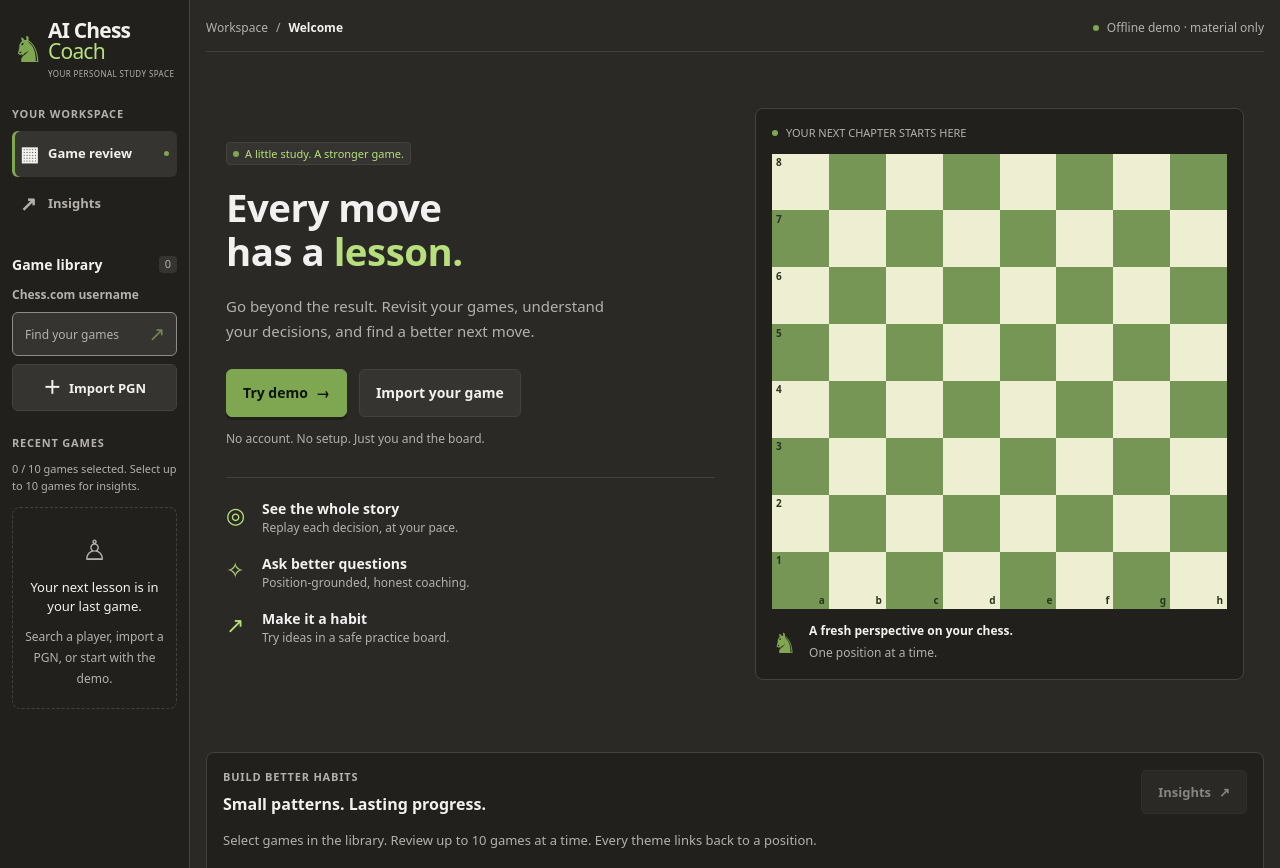
Test case: complete workspace › shows actionable import errors and preserves the current game
Click the button "Try demo →" at point(286, 393), box 226,369 -> 347,417
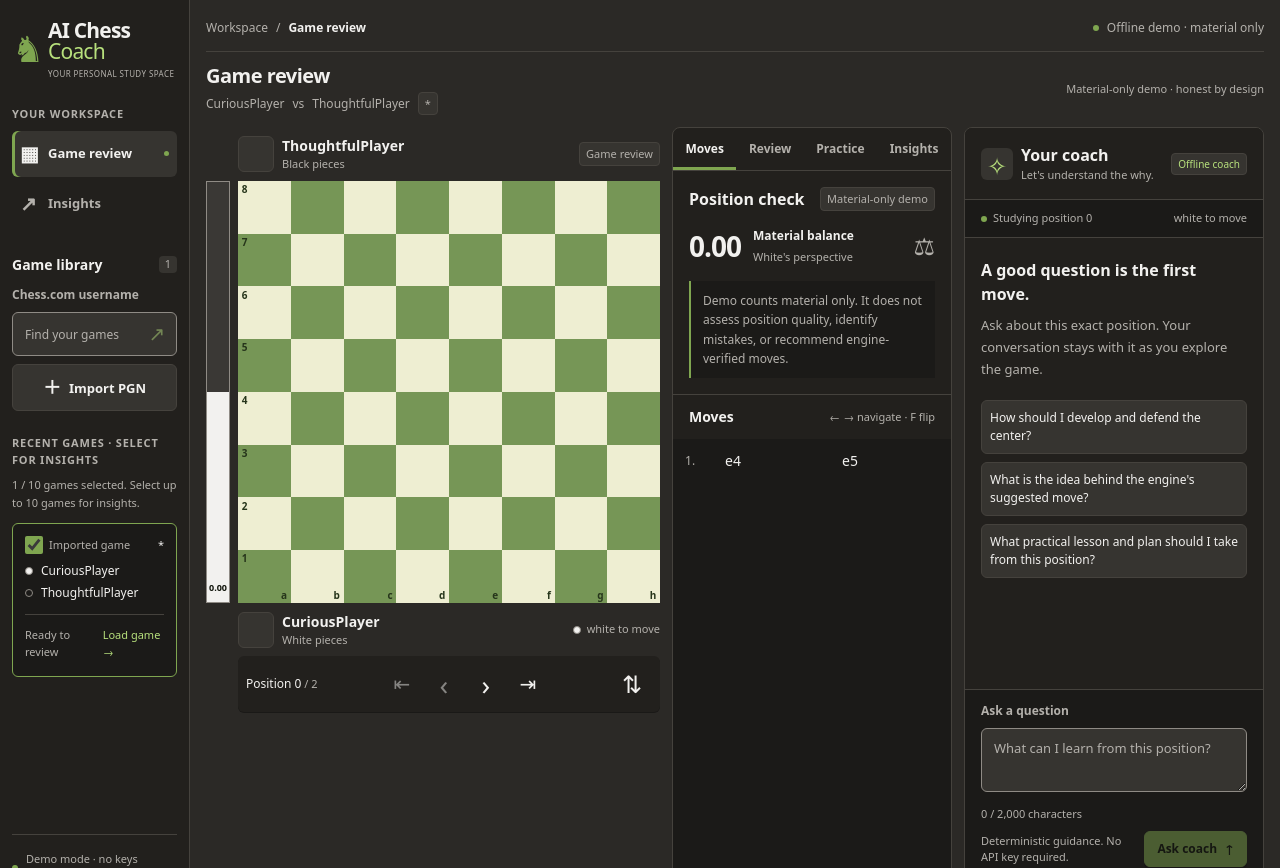
Result: the text "Position 0" is shown at 246,675 -> 302,692
Click the button "＋ Import PGN" at point(94, 388), box 12,364 -> 177,411
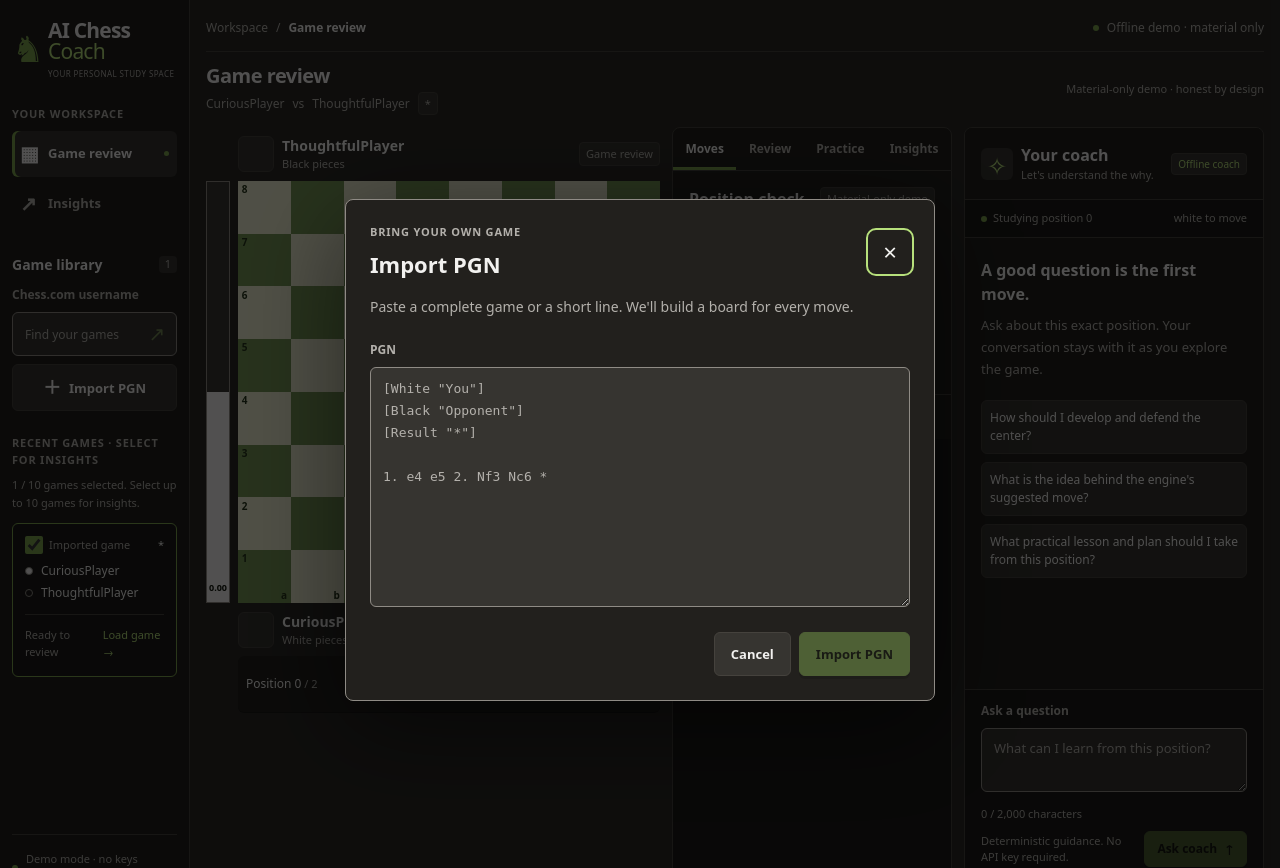
Result: the dialog "Import PGN" is shown at 345,199 -> 935,701
Type "not chess" into the text box labelled "PGN" at point(640, 487), box 370,367 -> 910,607
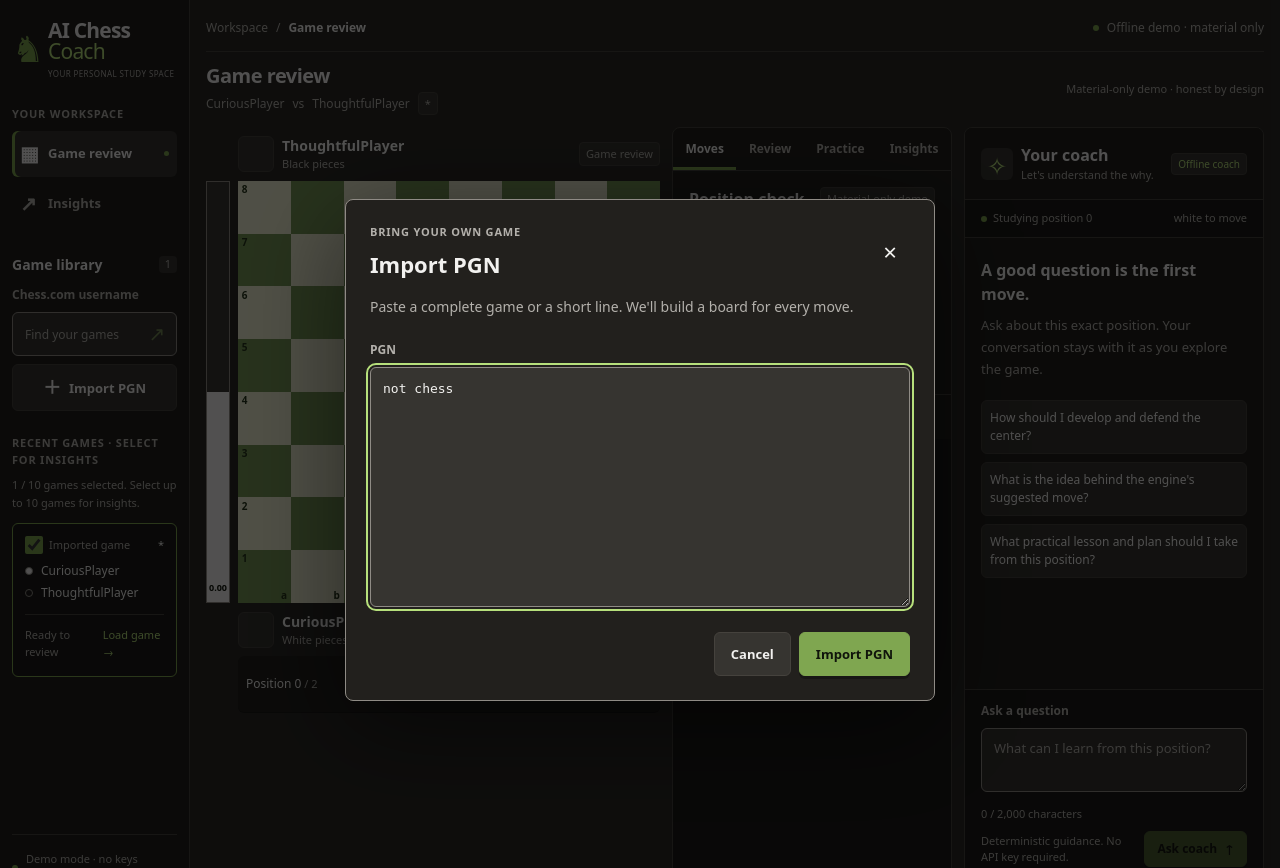
Click the button "Import PGN" at point(854, 654), box 799,632 -> 910,676
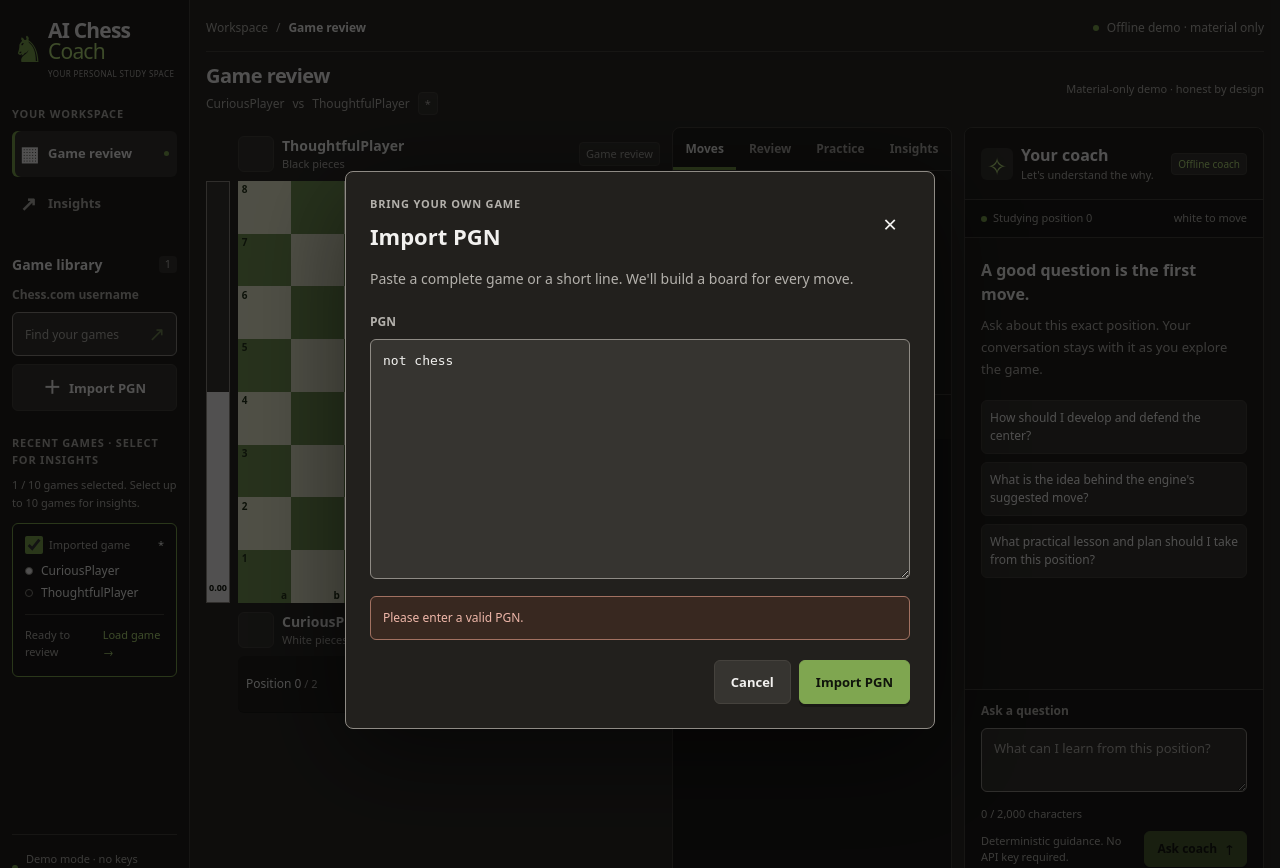
Result: the message reads "Please enter a valid PGN." at 383,609 -> 524,626
